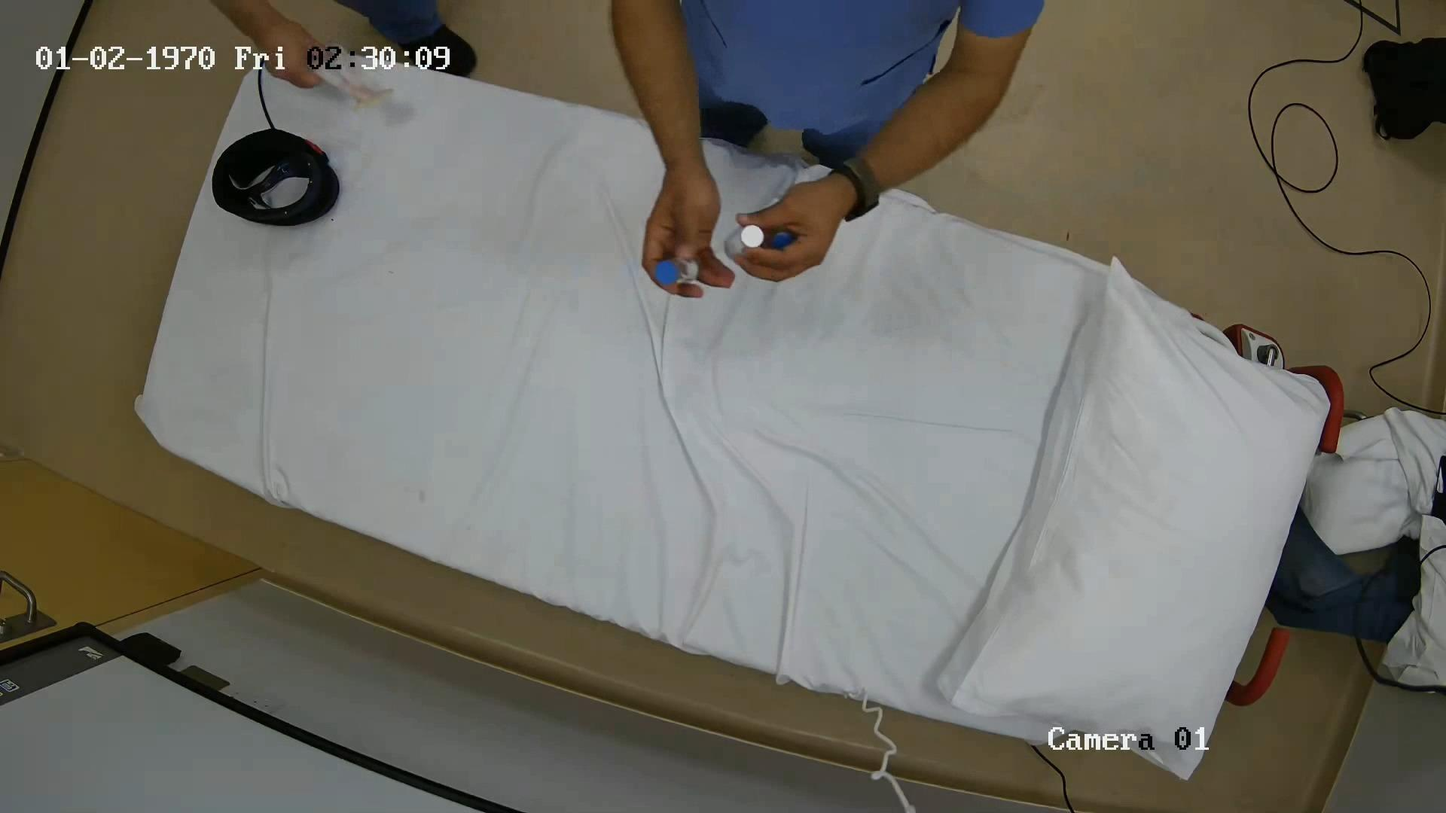augmentin: (724, 225, 764, 256)
bed: (135, 71, 1328, 778)
cefazolin: (654, 260, 698, 287), (767, 232, 795, 249)
tourniquet: (211, 126, 339, 226)
